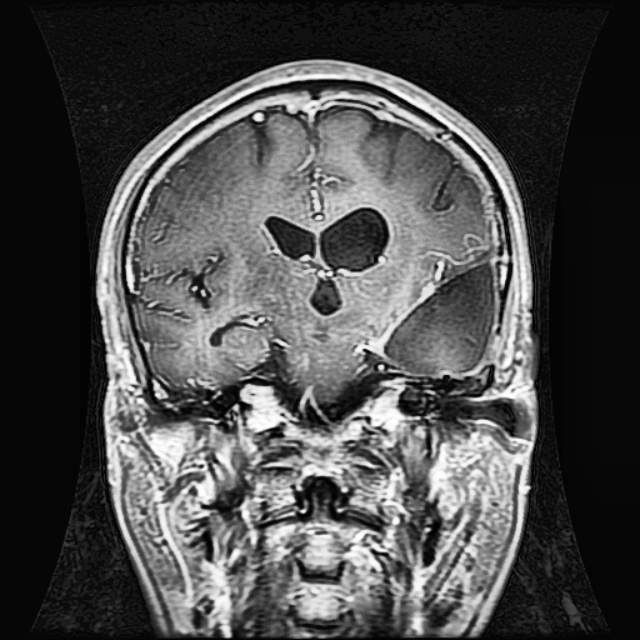Meningioma: (358, 228, 500, 378)
